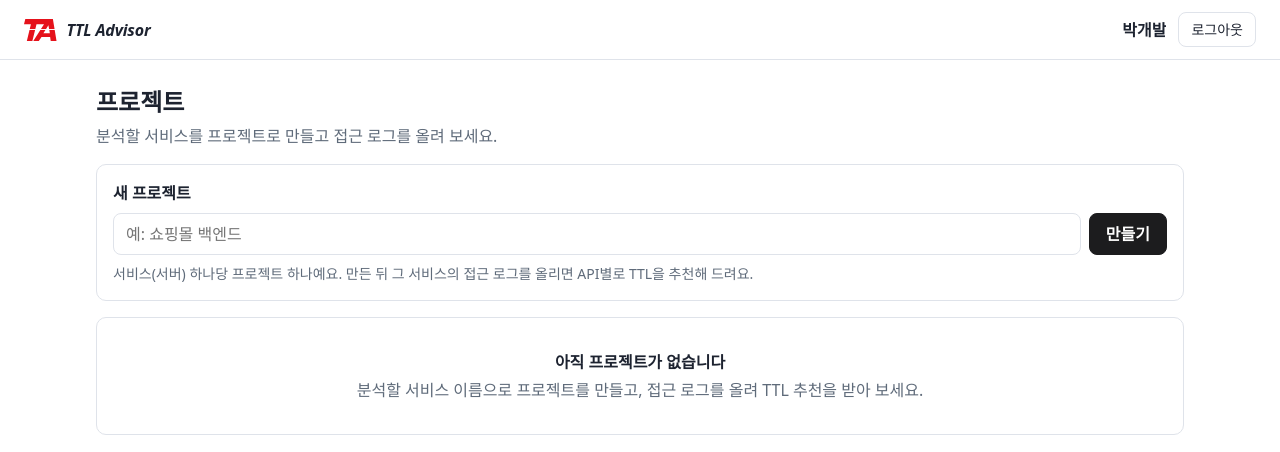
Test: 프로젝트 생성 › 이름을 입력해 만들면 공백을 잘라 보내고 프로젝트 화면으로 이동한다
Type "  결제 API  " into the field labelled "새 프로젝트". click: (597,234)
box: [113, 213, 1081, 255]
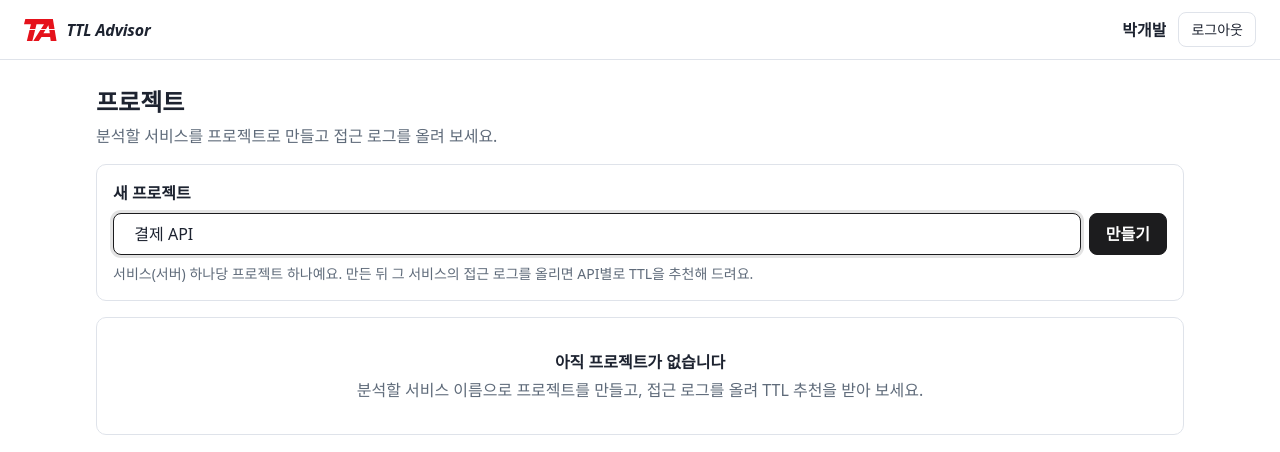
Click the button "만들기". click: (1128,234)
box: [1089, 213, 1167, 255]
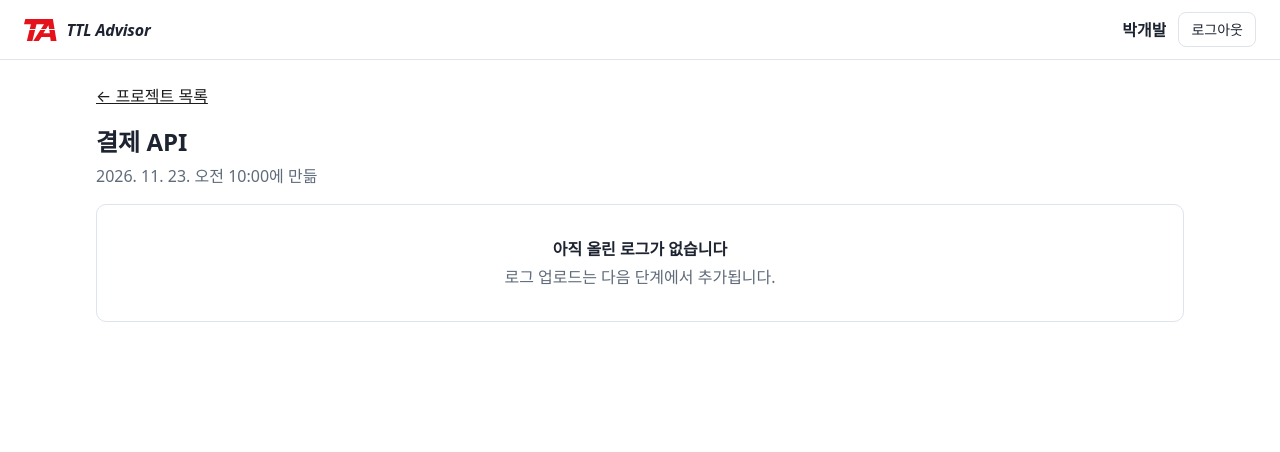
Expected: the heading "결제 API" is shown, [96, 125, 187, 158]
